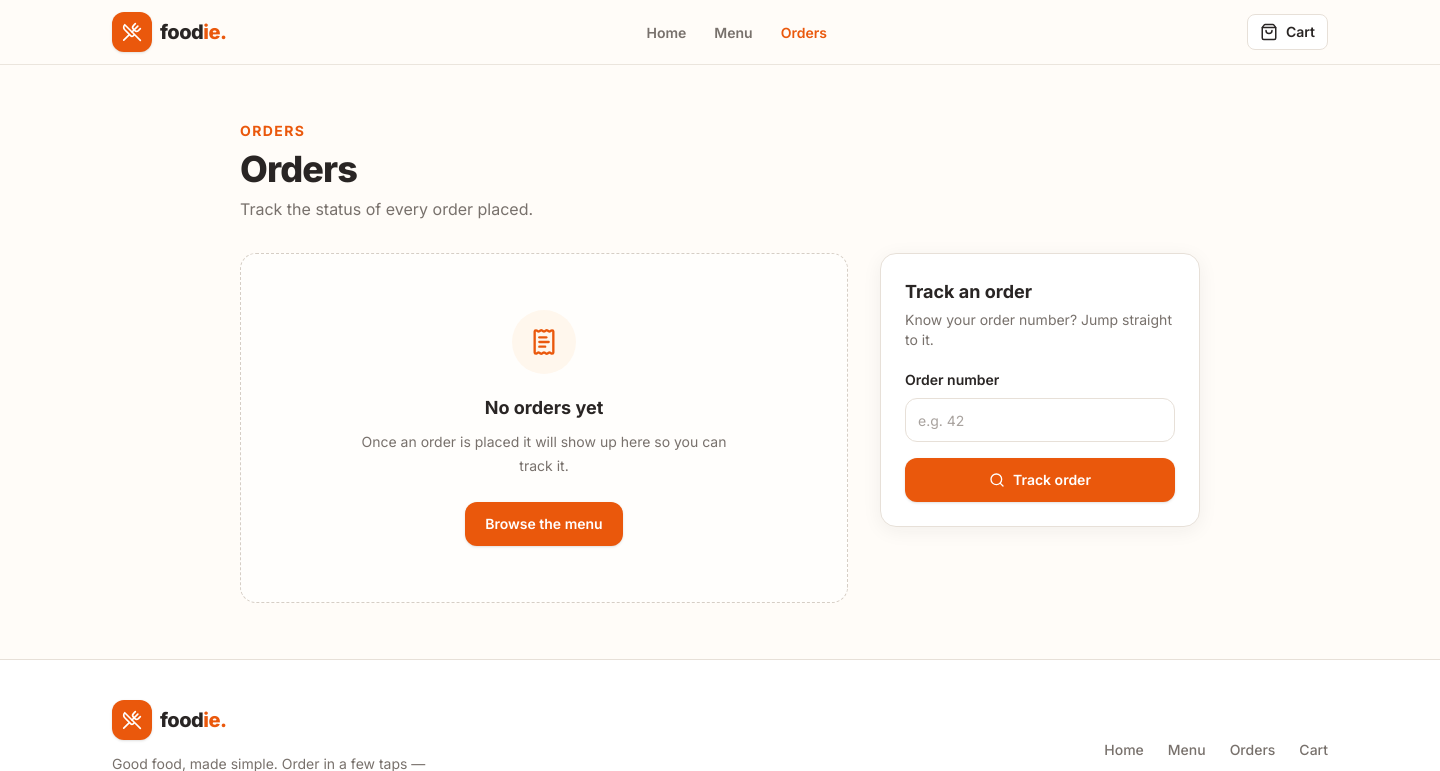
Test: Orders page › tracks an order by number
Step 1. Type "abc" into the field labelled "Order number" → (1040,420), box [905,398,1175,442]
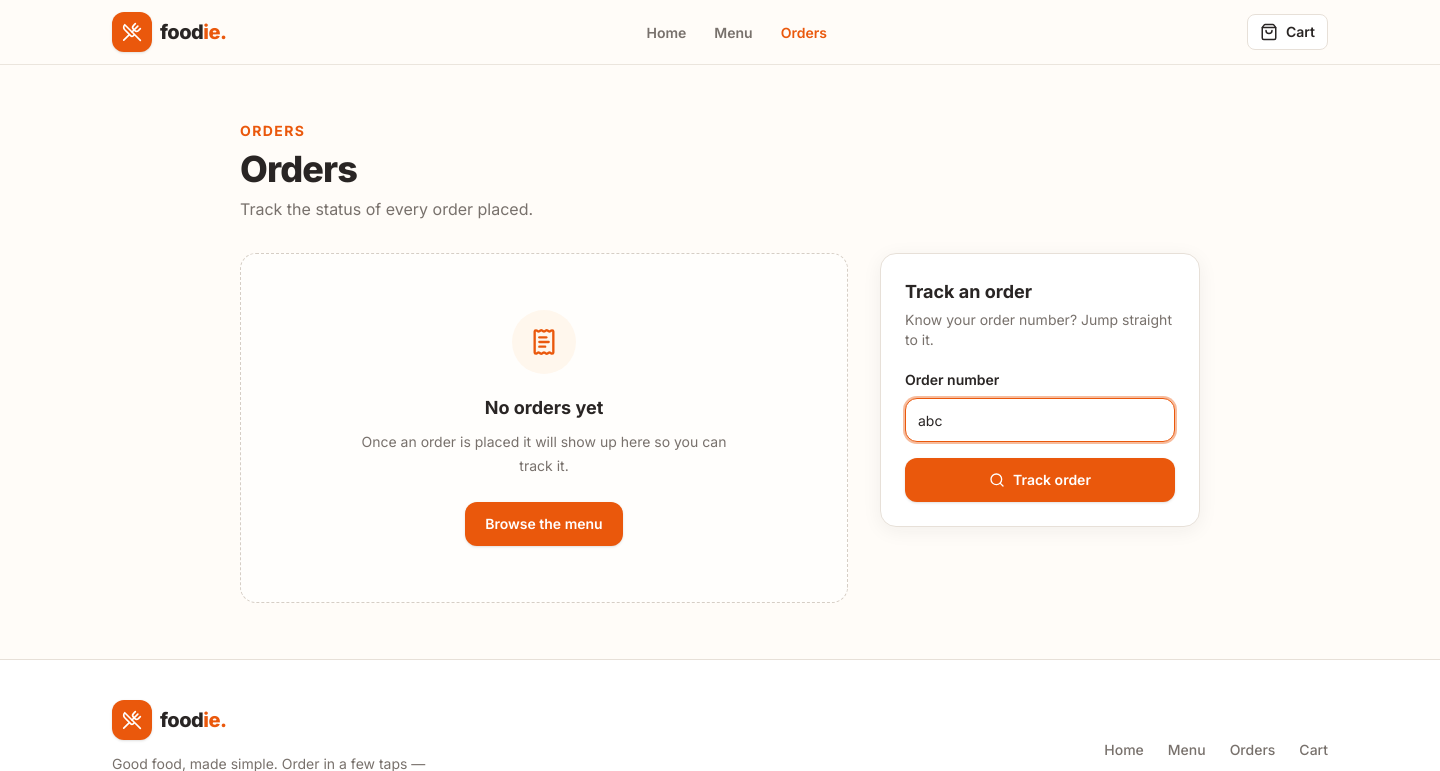
Step 2. Click the button "Track order" → (1040,480), box [905,458,1175,502]
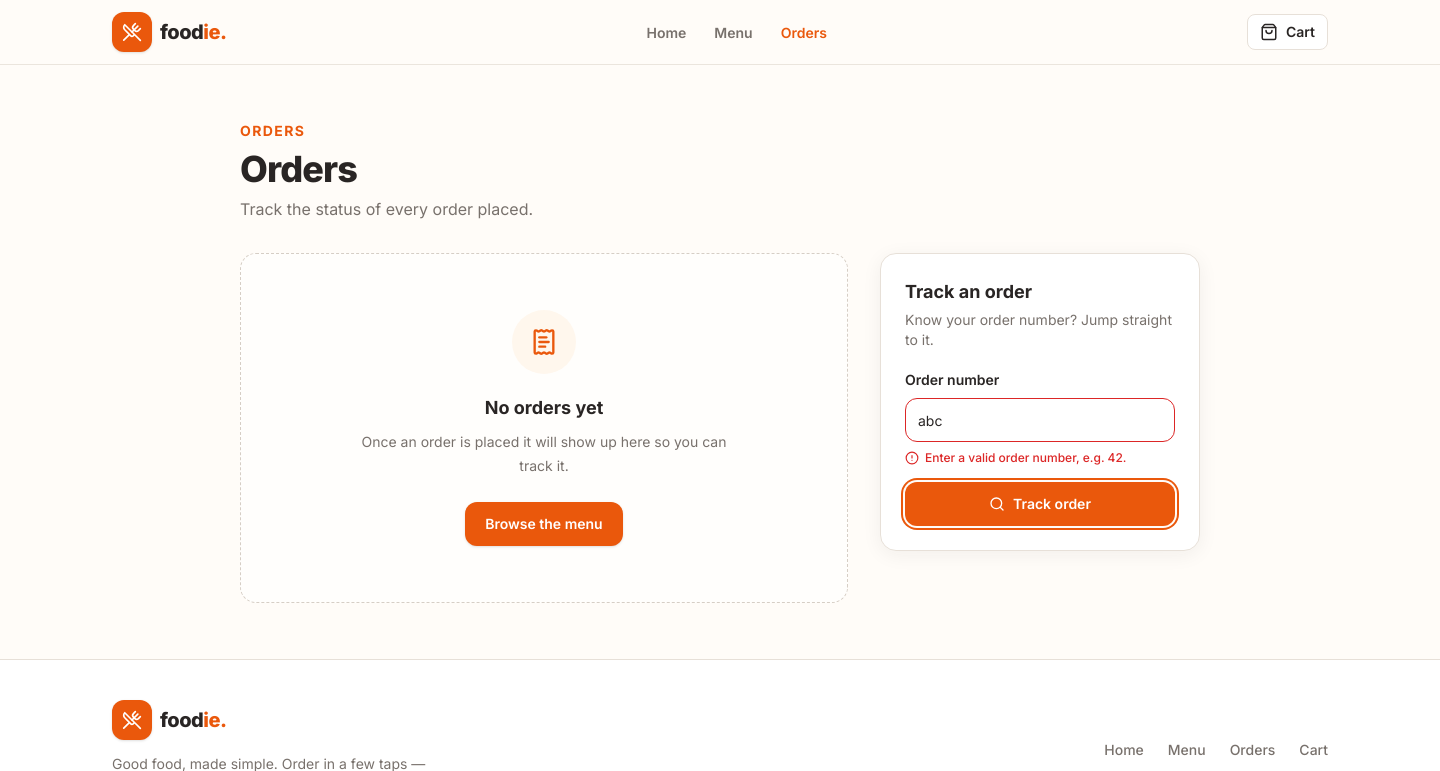
Check: the text "Enter a valid order number, e.g. 42." is shown, box [905,450,1126,465]
Step 3. Replace the text in the field labelled "Order number" with "#12" → (1040,420), box [905,398,1175,442]
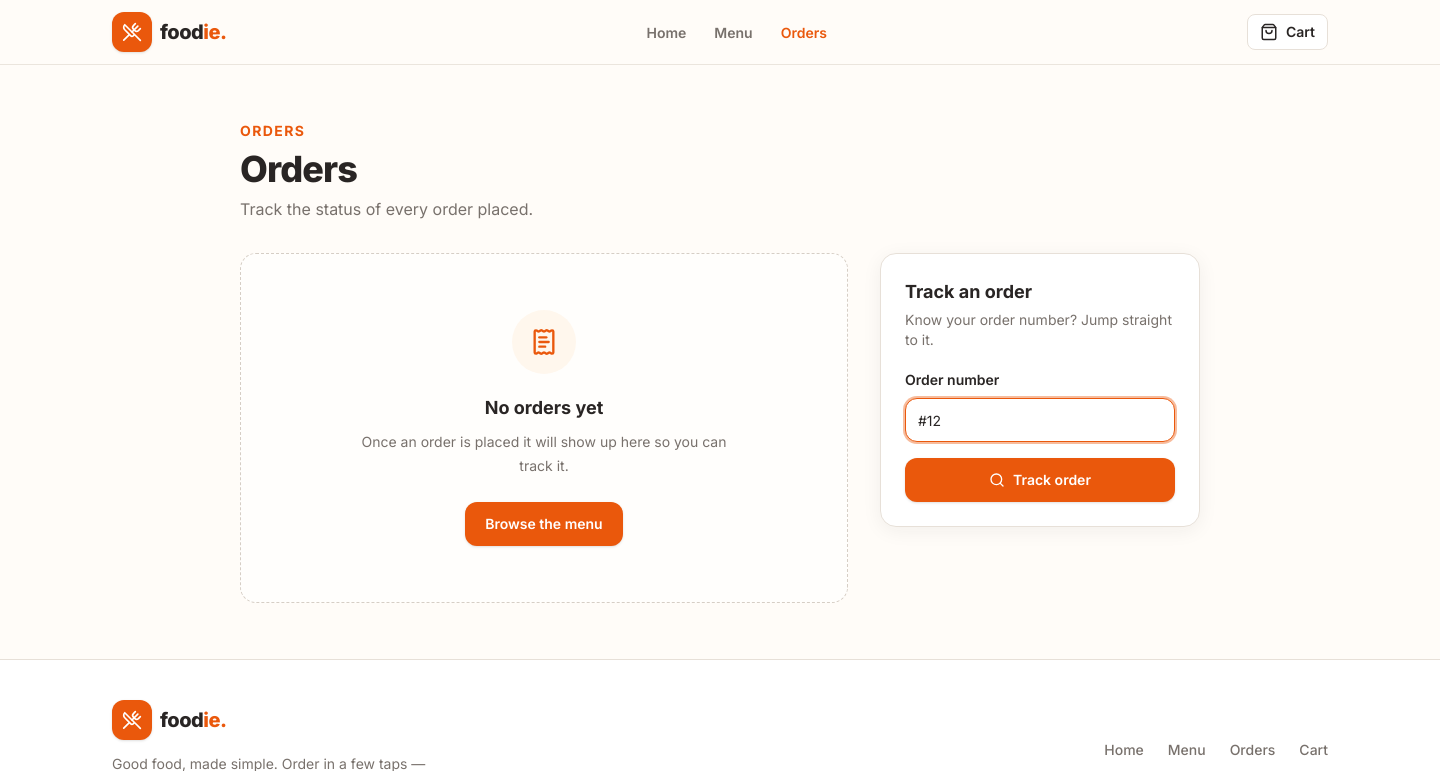
Step 4. Click the button "Track order" → (1040,480), box [905,458,1175,502]
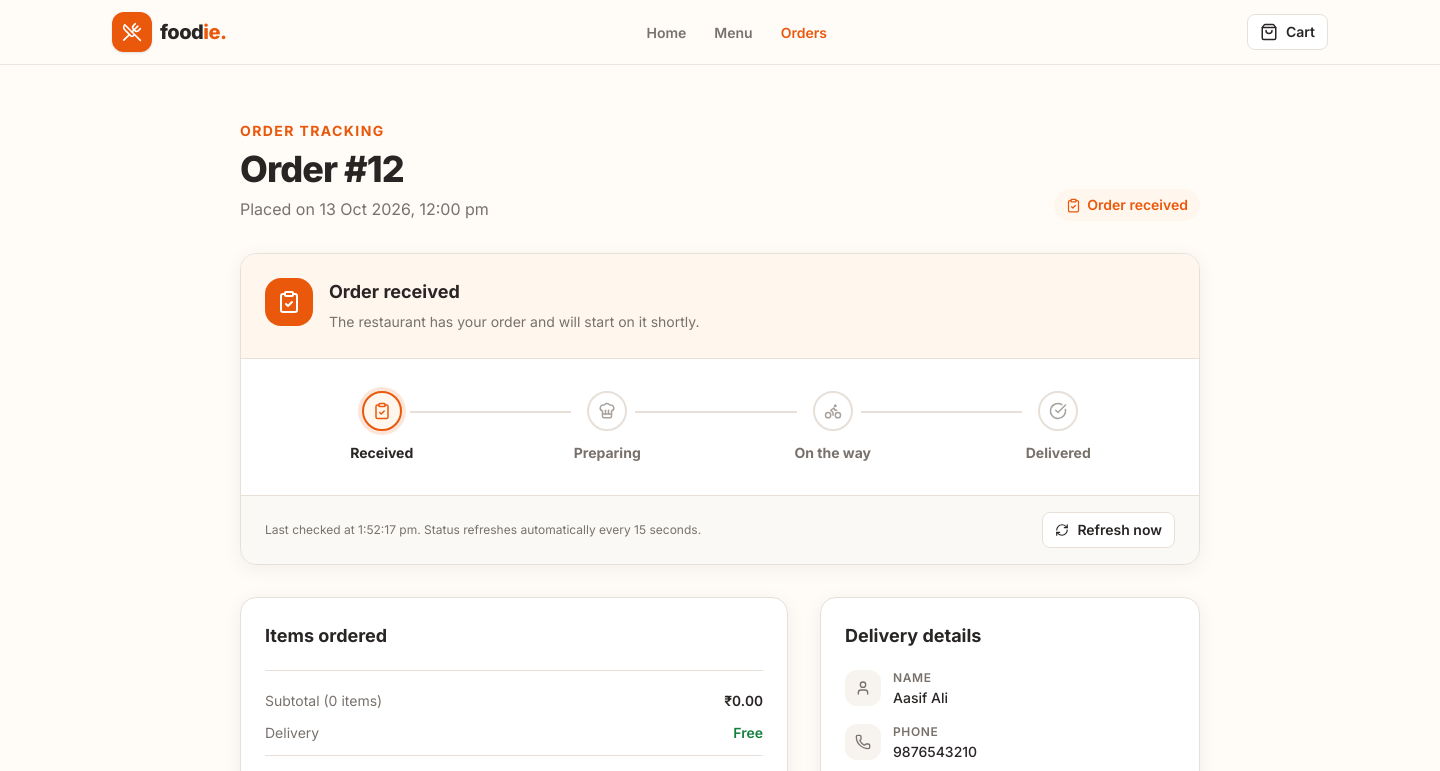
Check: the heading "Order #12" is shown, box [240,147,404,191]
